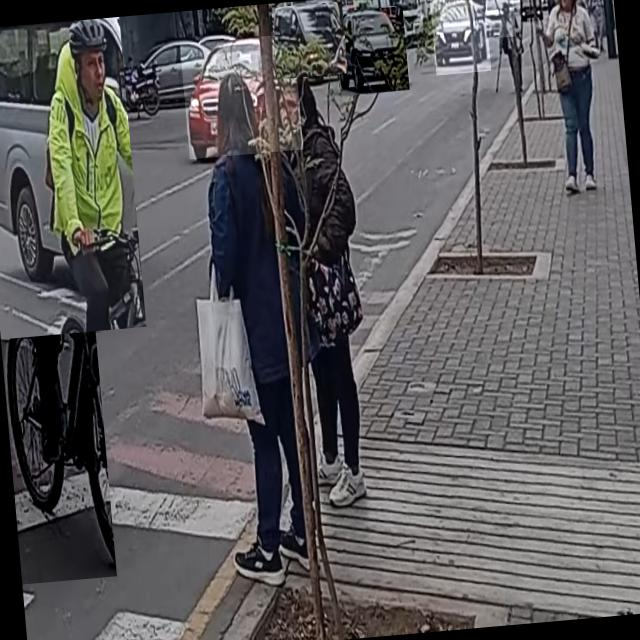bicycle: (0, 214, 116, 584)
car: (0, 16, 146, 338), (180, 34, 304, 159), (333, 5, 409, 96), (270, 1, 348, 79), (429, 0, 490, 74), (481, 0, 516, 38), (519, 0, 542, 21)
